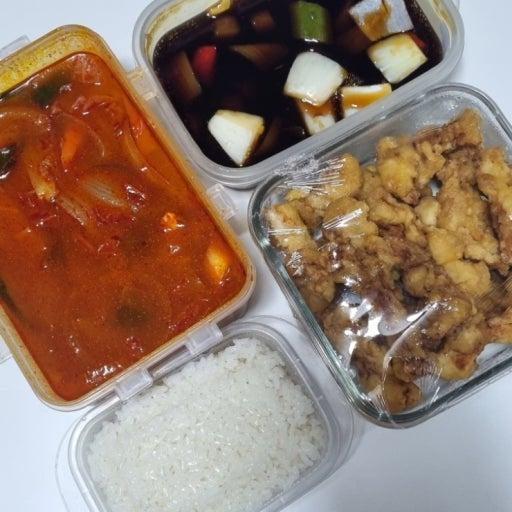Lunch Box: (0, 25, 254, 410), (249, 85, 511, 426), (134, 0, 463, 188), (56, 316, 353, 511)
